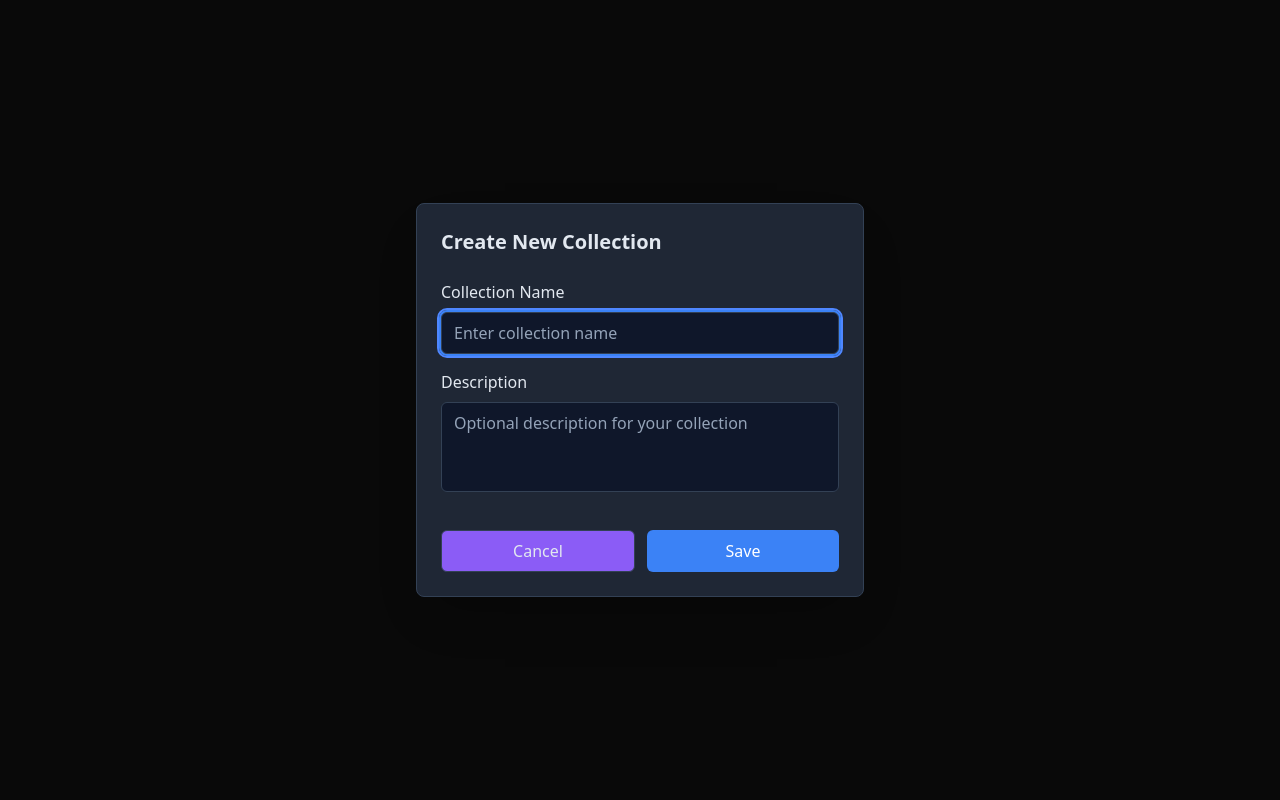
it: CreateCollectionModal › keeps modal open when creation fails
The image size is (1280, 800).
In the field labelled "Collection Name": x=640, y=333 top-left (441, 312), bottom-right (839, 354), type "Valid Name"
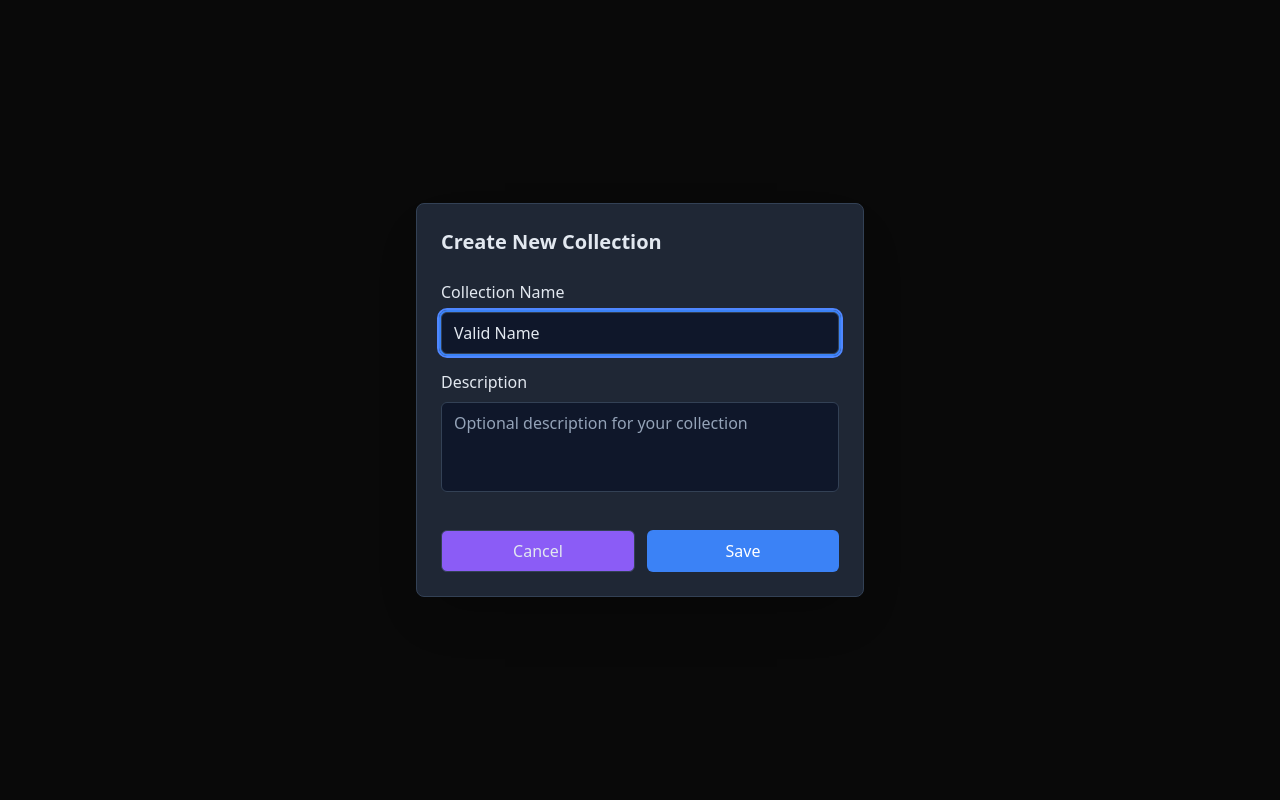
Click the button "Save": x=743, y=551 top-left (647, 530), bottom-right (839, 572)
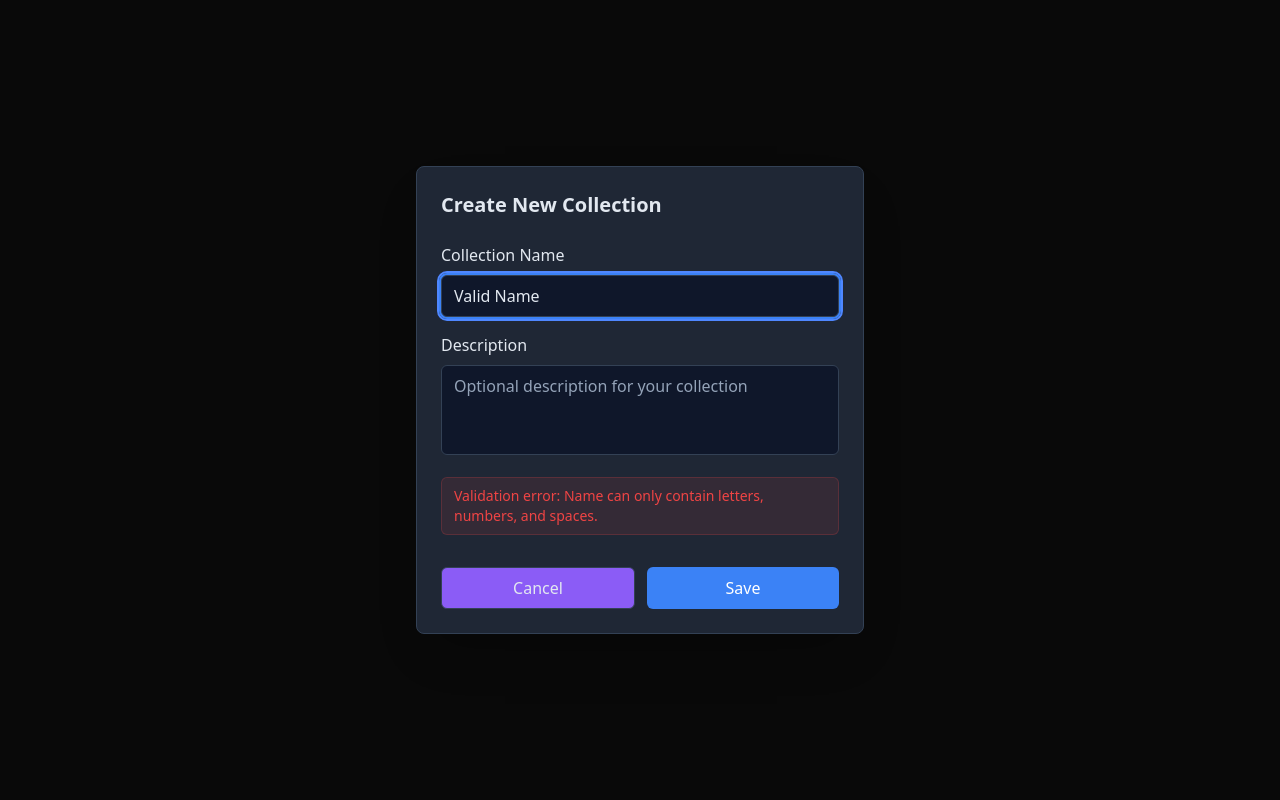
Expected: the text "Validation error: Name can only contain letters, numbers, and spaces." is shown, top-left (441, 477), bottom-right (839, 535)
